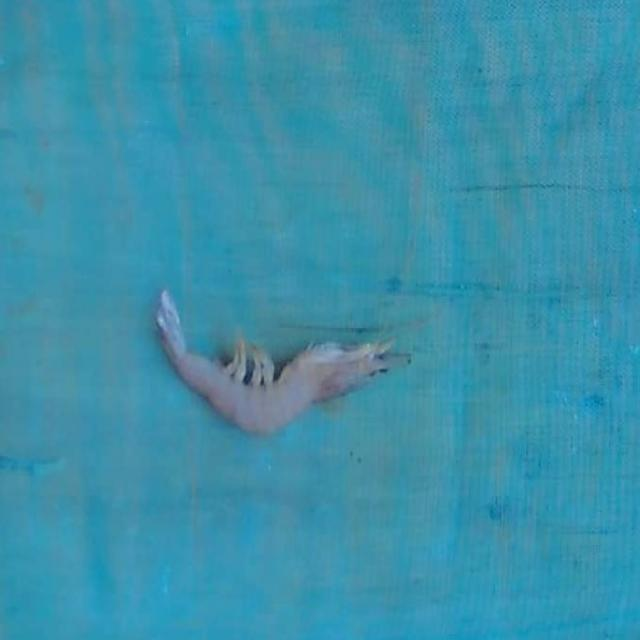shrimp: (156, 291, 391, 433)
